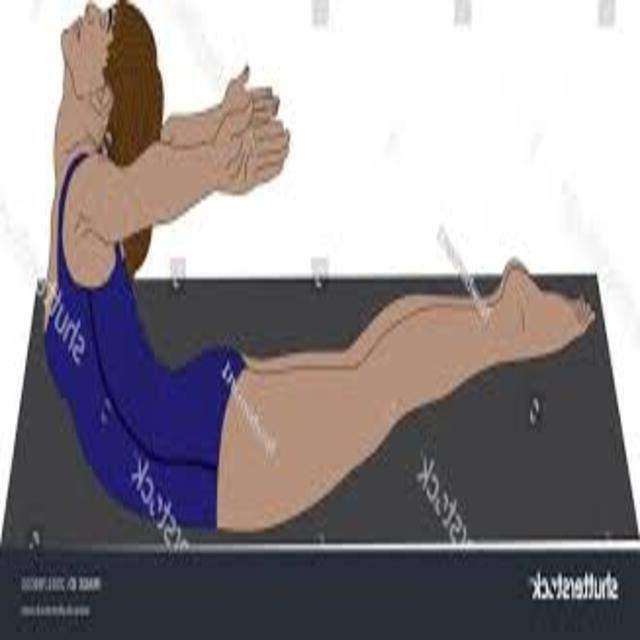Locust_Pose: (46, 5, 596, 536)
